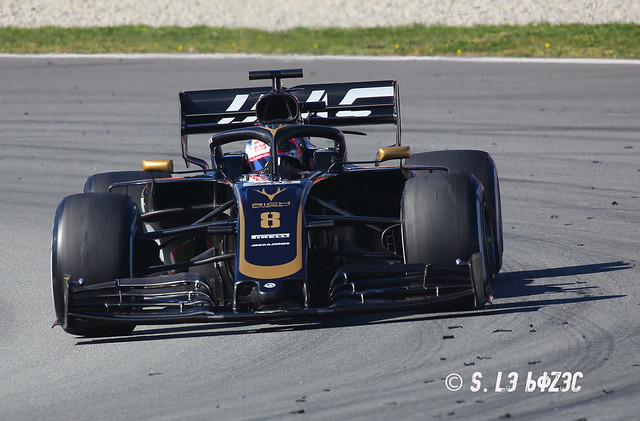F1 Car: (50, 66, 489, 333)
